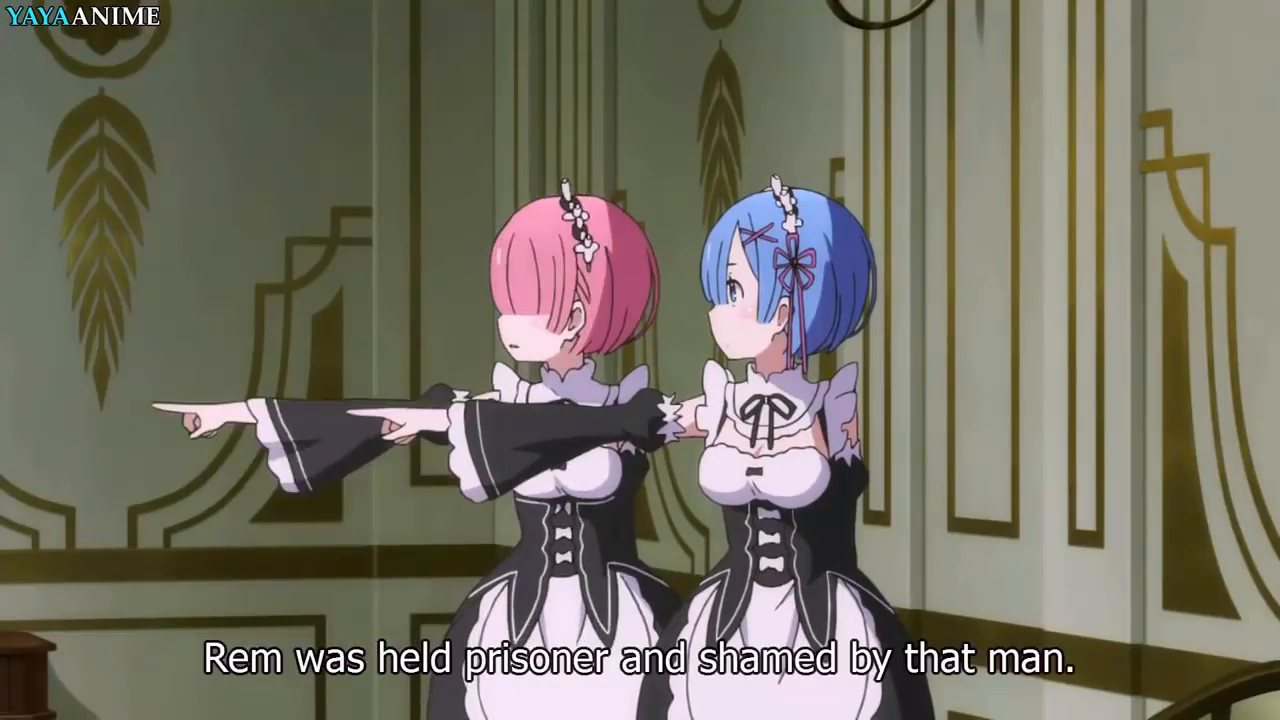REM: (695, 187, 880, 368)
